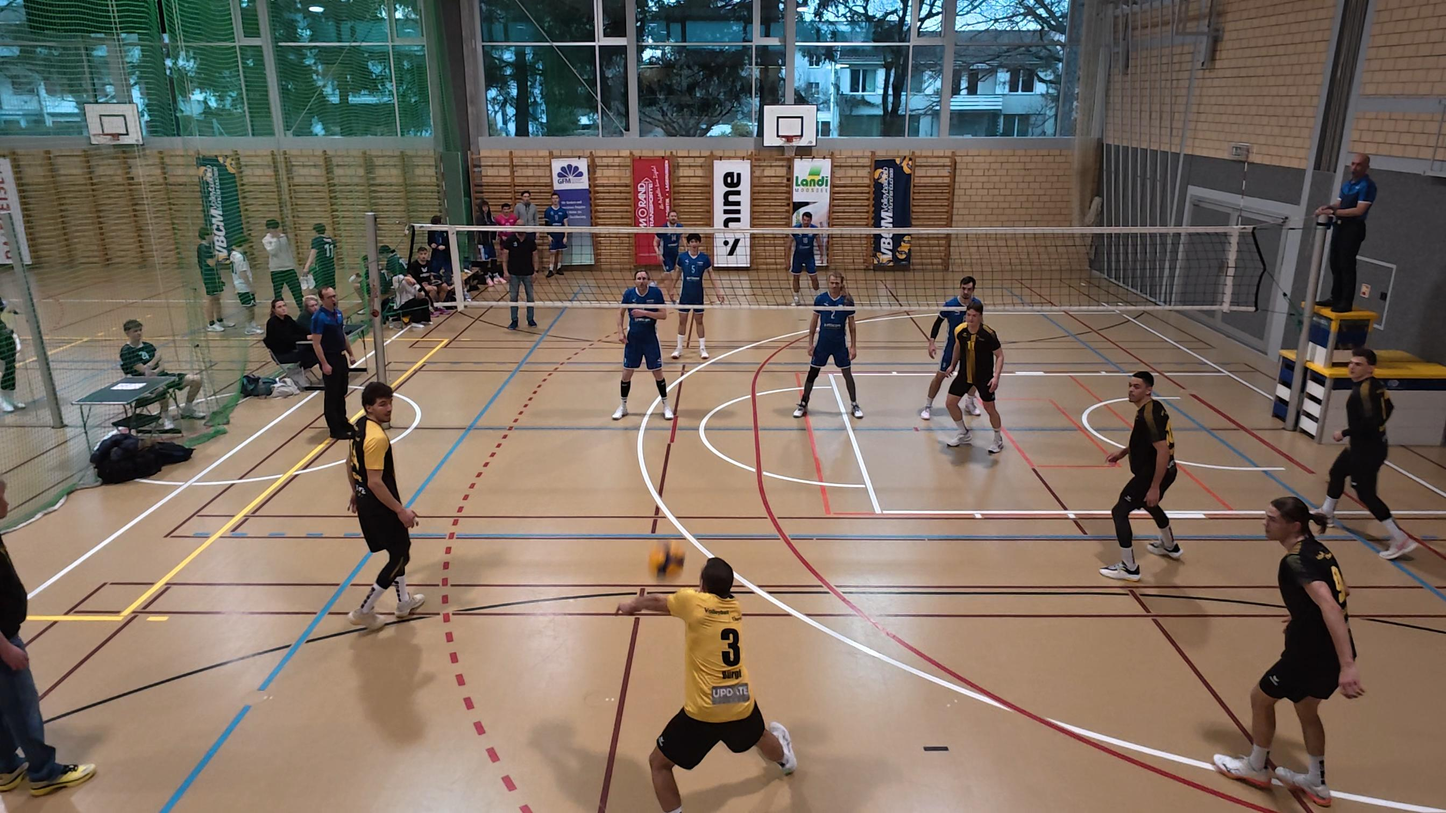ricezione: (617, 552, 801, 811)
